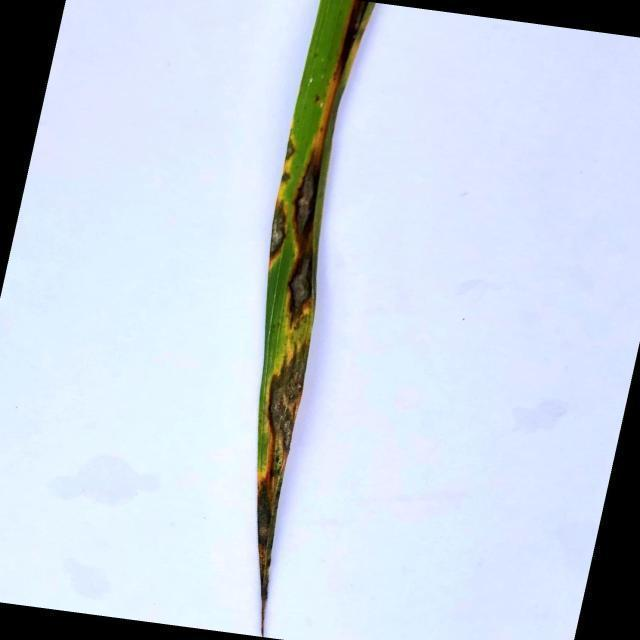Leaf_Blast: (258, 340, 315, 638), (286, 144, 325, 331), (326, 0, 373, 101), (267, 198, 291, 273), (281, 140, 296, 162), (282, 173, 293, 184)
